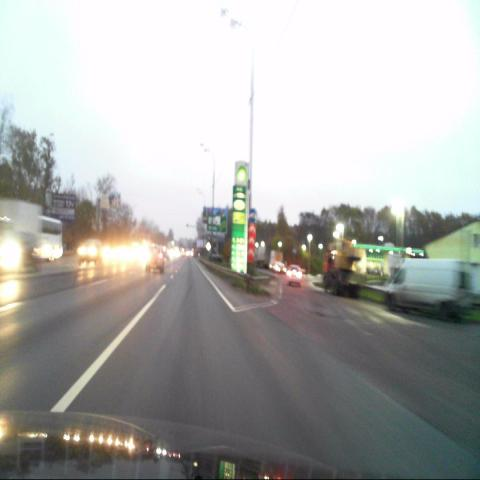2_1: (205, 241, 212, 252)
4_2_3: (248, 208, 256, 222)
